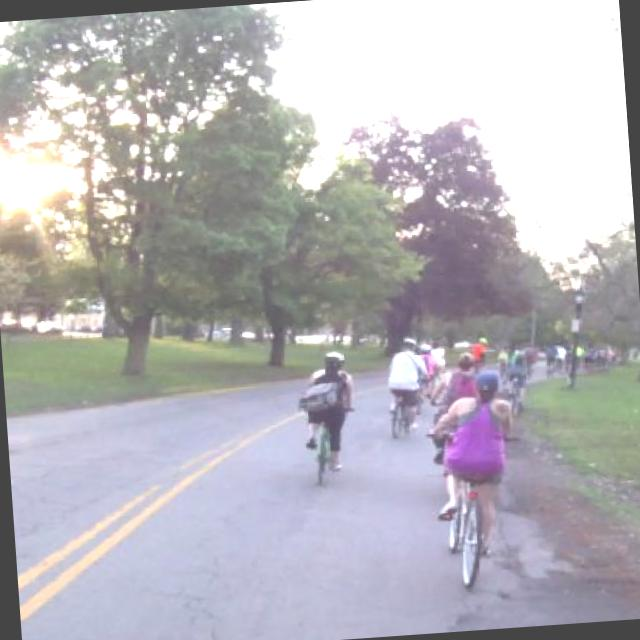Person: (424, 369, 520, 562), (428, 349, 483, 464), (308, 349, 358, 473), (387, 335, 434, 436)
